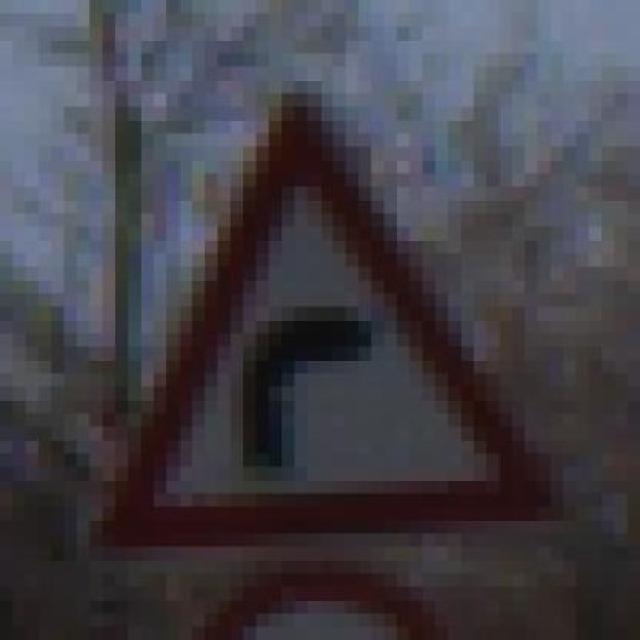Dangerous Rright Curve Ahead: (64, 80, 576, 534)
